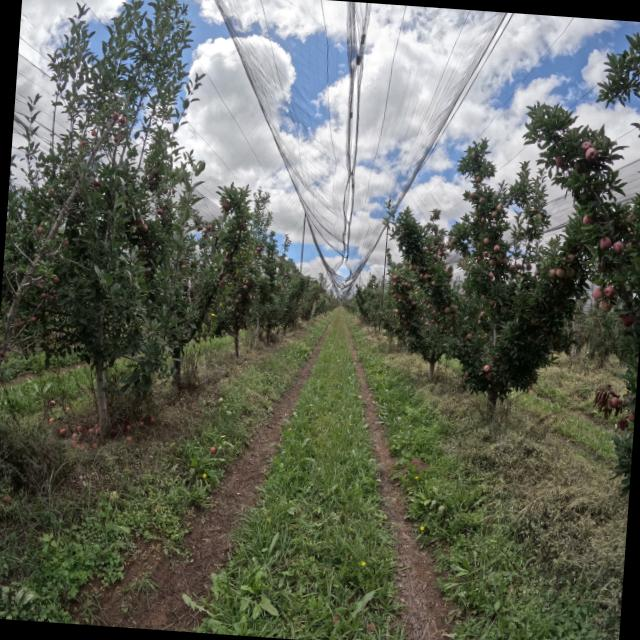-FireBlight-: (592, 384, 621, 420)
